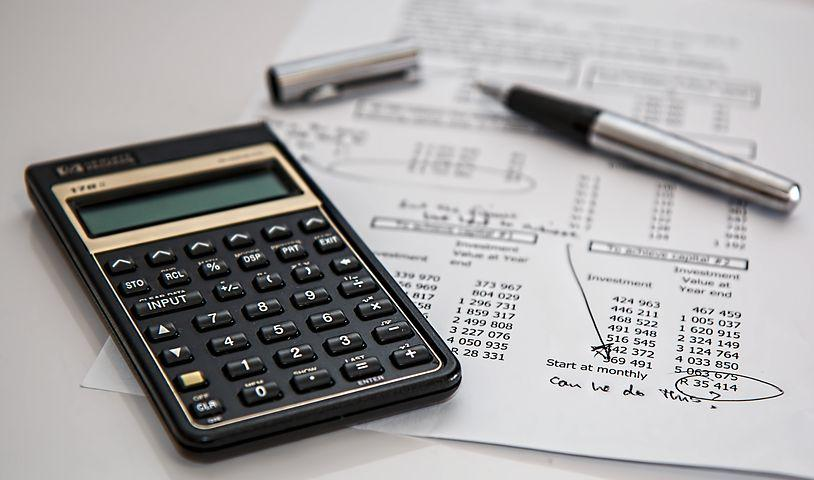Calculator: (13, 112, 486, 472)
